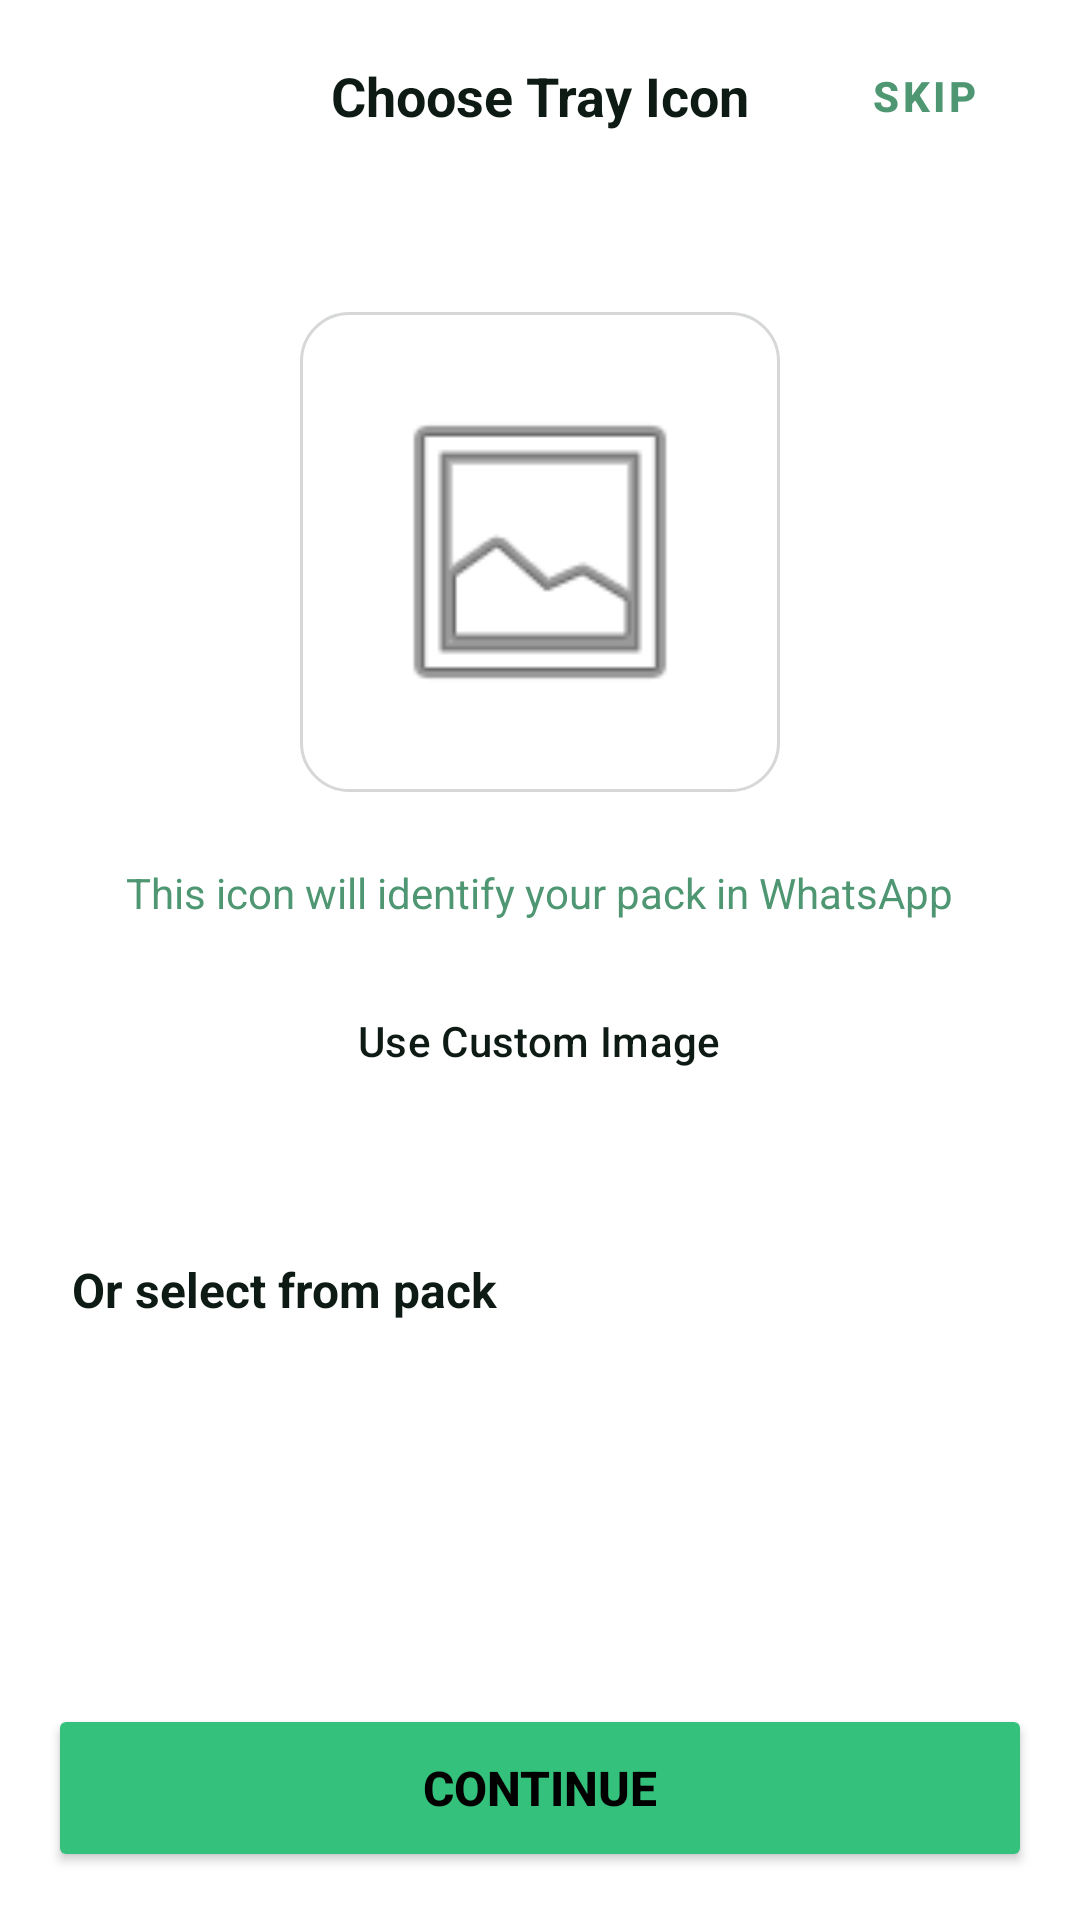

Screen size 1080*1920. Icon name, then its box in pixels as (x1, y1, x2, y2):
gallery: (413, 425, 667, 679)
